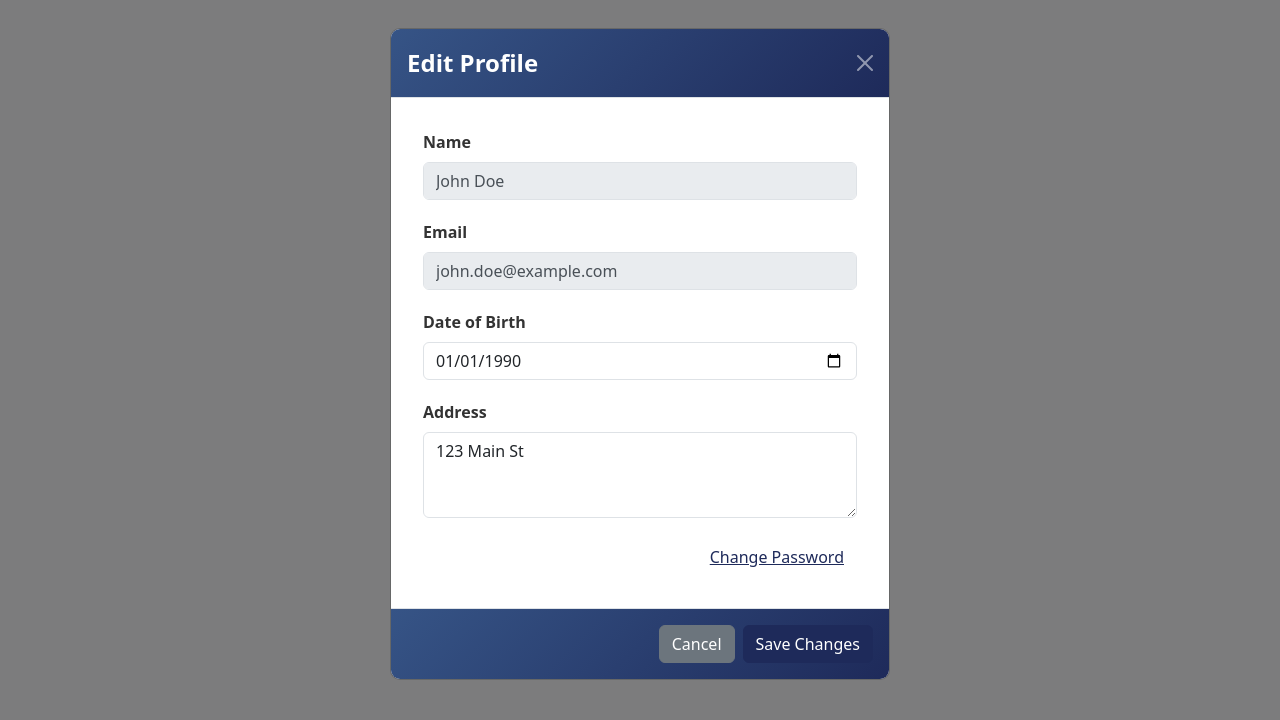
shows error alert when current password is incorrect
Open Change Password modal
Click the button "Change Password": (777, 557) [697,538,857,576]
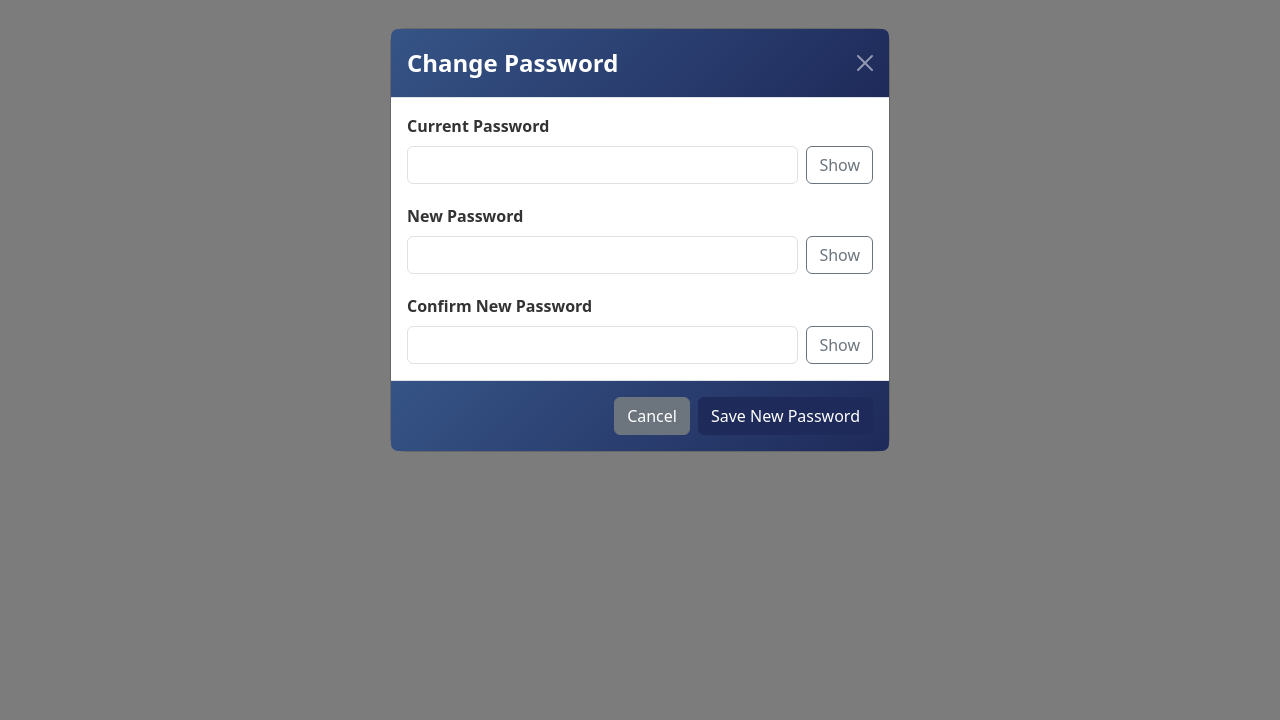
Simulate current password input
In the password field labelled "Current Password": (603, 165) [407,146,798,184], type "wrongpassword"
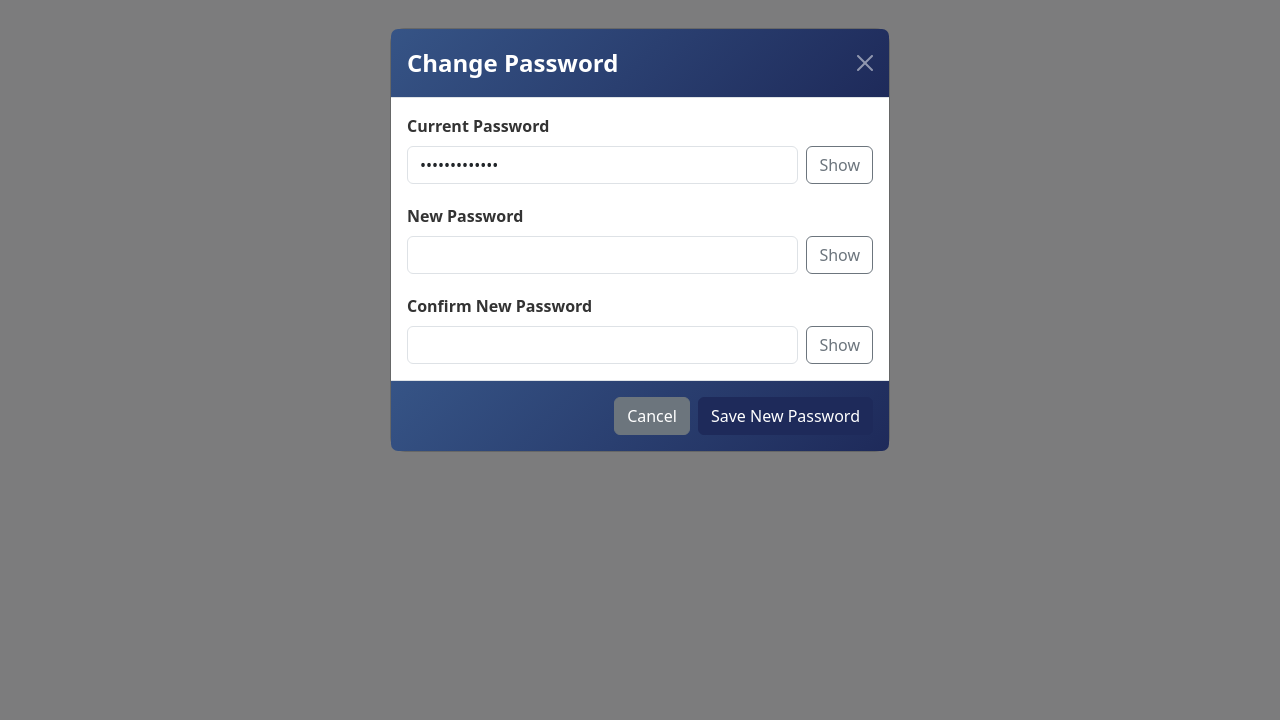
Try to save the new password
Click the button "Save New Password": (786, 416) [698,397,873,435]
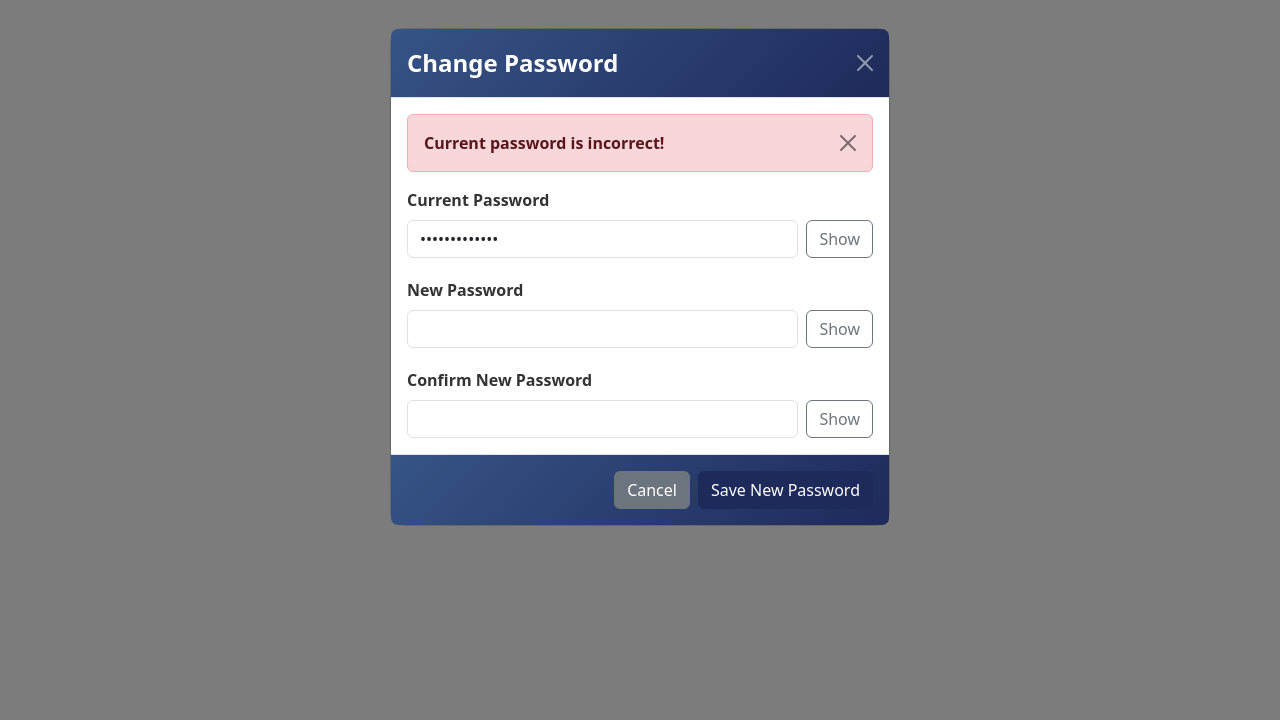
Check: the text "Current password is incorrect!" is shown, box [407,114,873,172]
